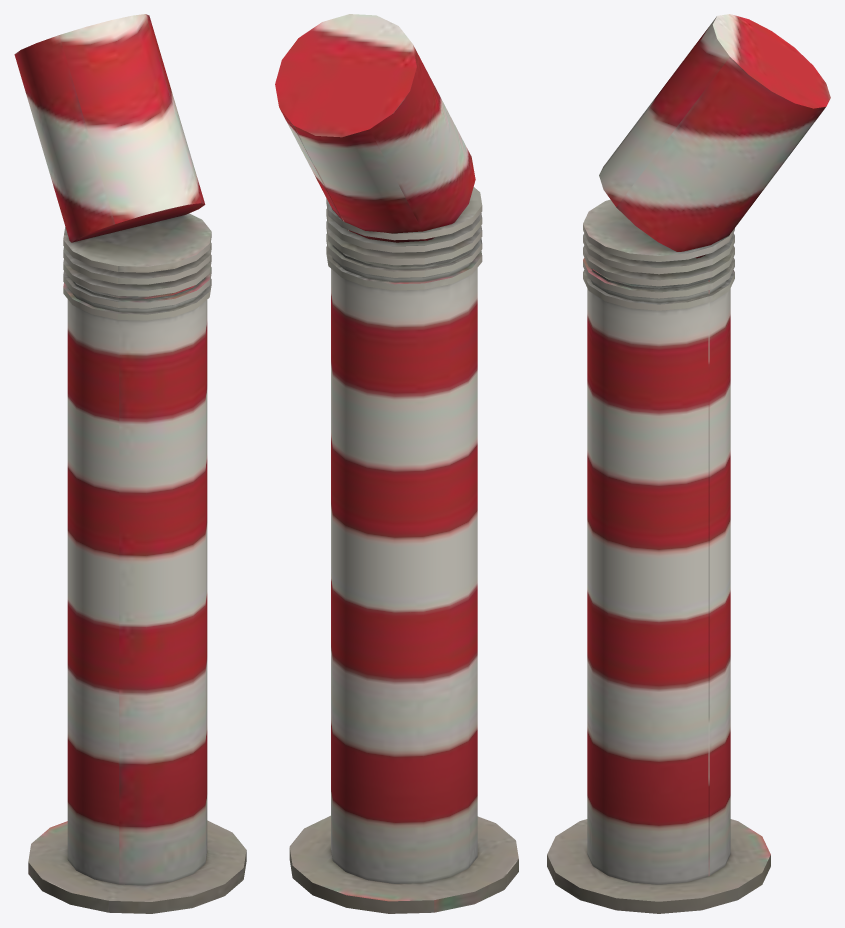
Rendered from pajita_recta.glb.
3 renders of one model, left to right at view 1: azimuth 30°, elevation 25°; view 2: azimuth 150°, elevation 25°; view 3: azimuth 270°, elevation 25°, orthographic. The views are drawn at different scales.
Parts seen in each view (by area): view 1: pajita_recta; view 2: pajita_recta; view 3: pajita_recta.
Part boxes in pixels (x1,y1,x2,y2): pajita_recta: (14, 14, 246, 913); pajita_recta: (275, 14, 518, 913); pajita_recta: (547, 14, 830, 913).
Size of the model in its own units: 1 by 4.15 by 1.27.
Materials: 1 (1 with a texture image).
